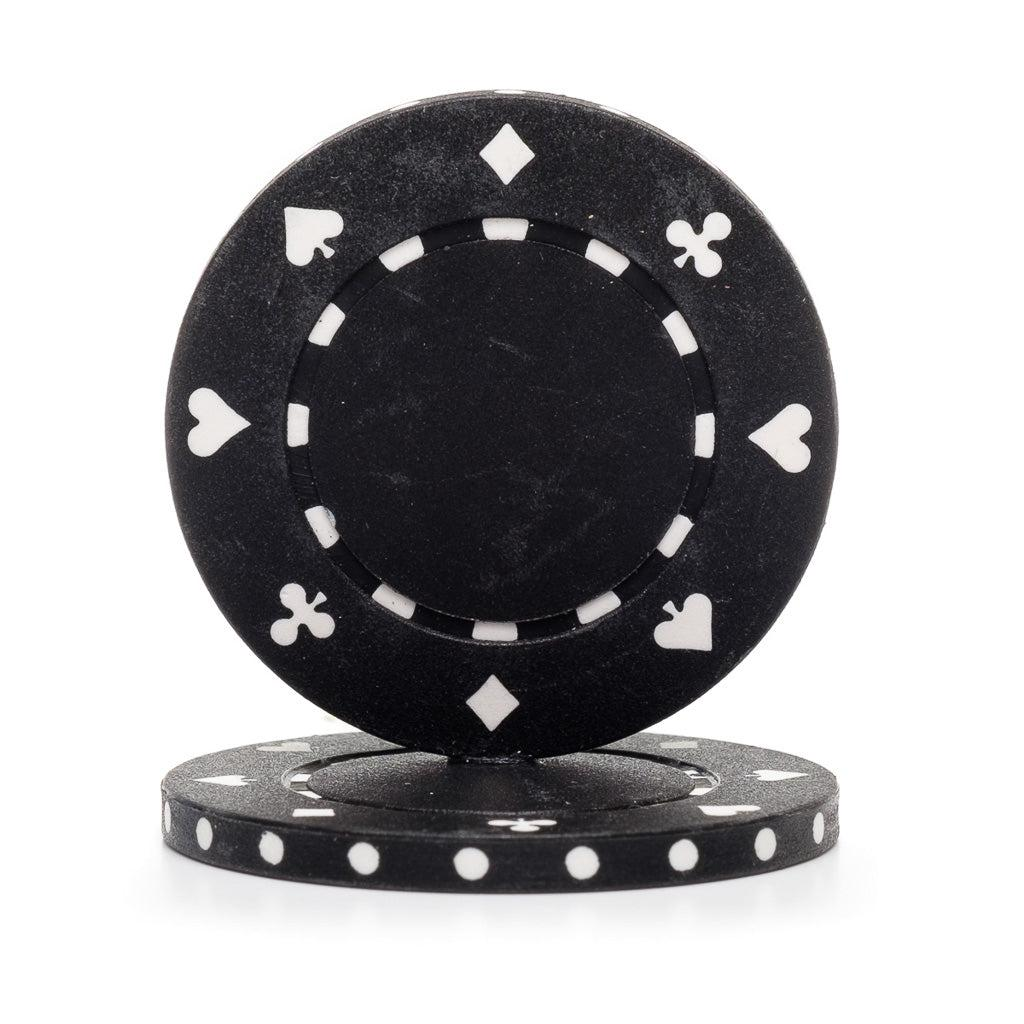chip-black: (166, 92, 836, 756), (162, 732, 836, 892)
